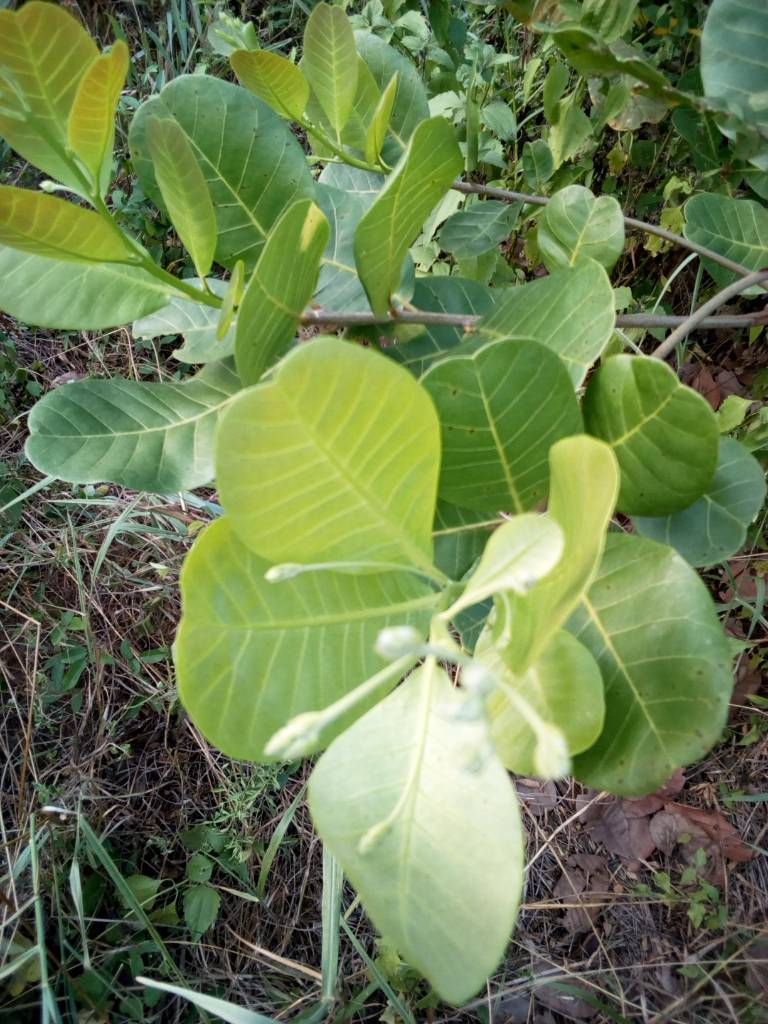Pestalotiose: (610, 617, 730, 783), (438, 358, 538, 485)
